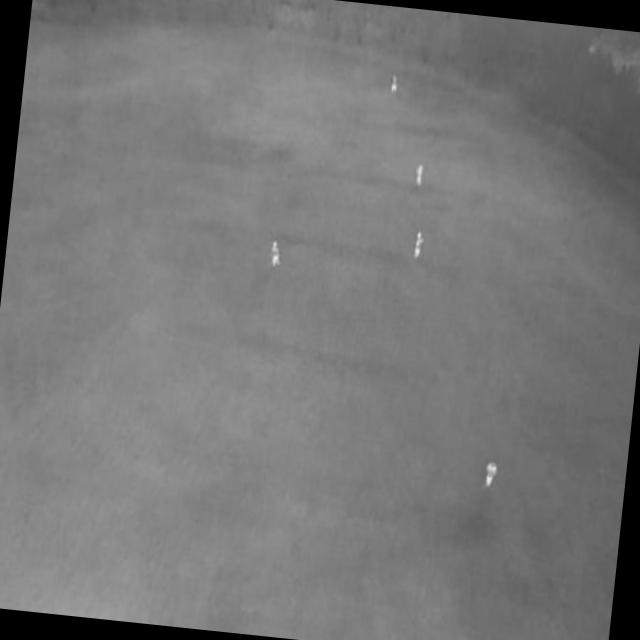person: (483, 457, 499, 494), (267, 241, 284, 271), (412, 231, 426, 262), (414, 161, 426, 189), (389, 72, 399, 95)
